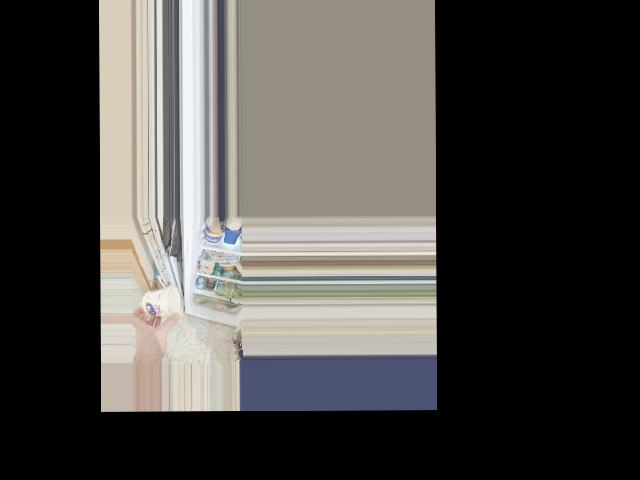cotage: (139, 286, 181, 315)
